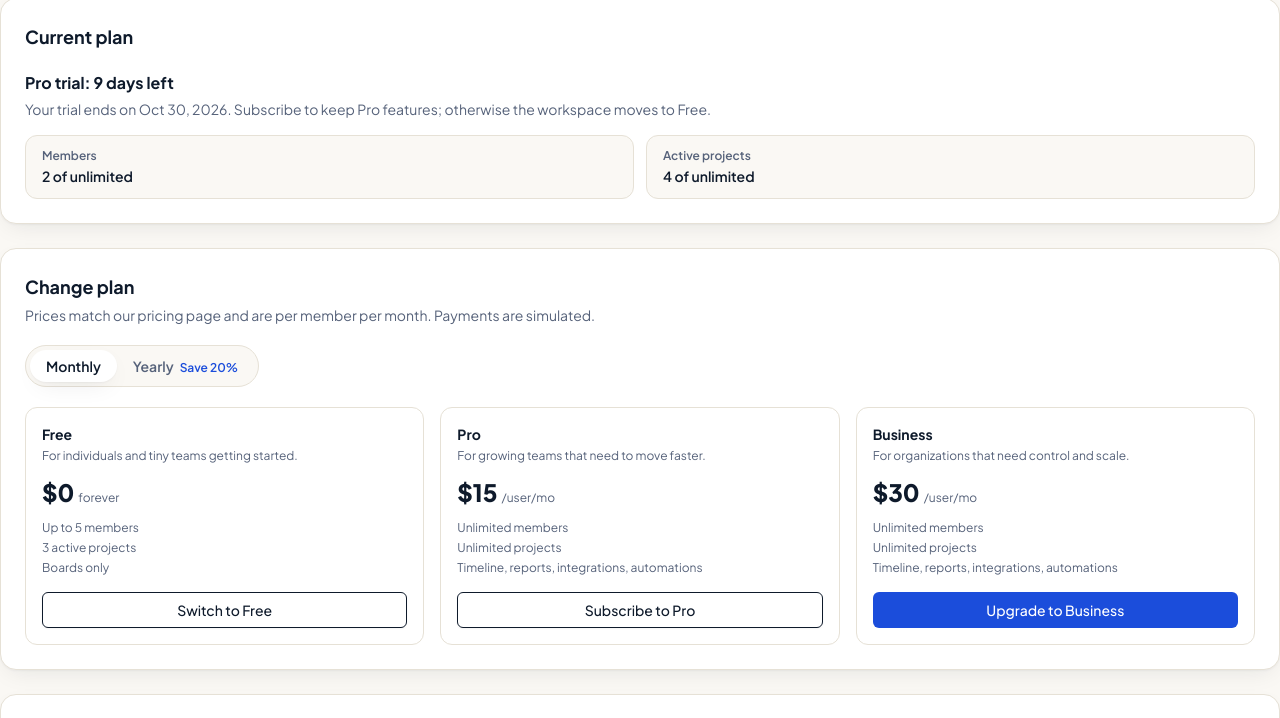
BillingPanel › upgrades through the mock checkout with the test card pre-filled
The image size is (1280, 718).
Click the radio button labelled "Yearly" at (186,366), box [117, 350, 254, 382]
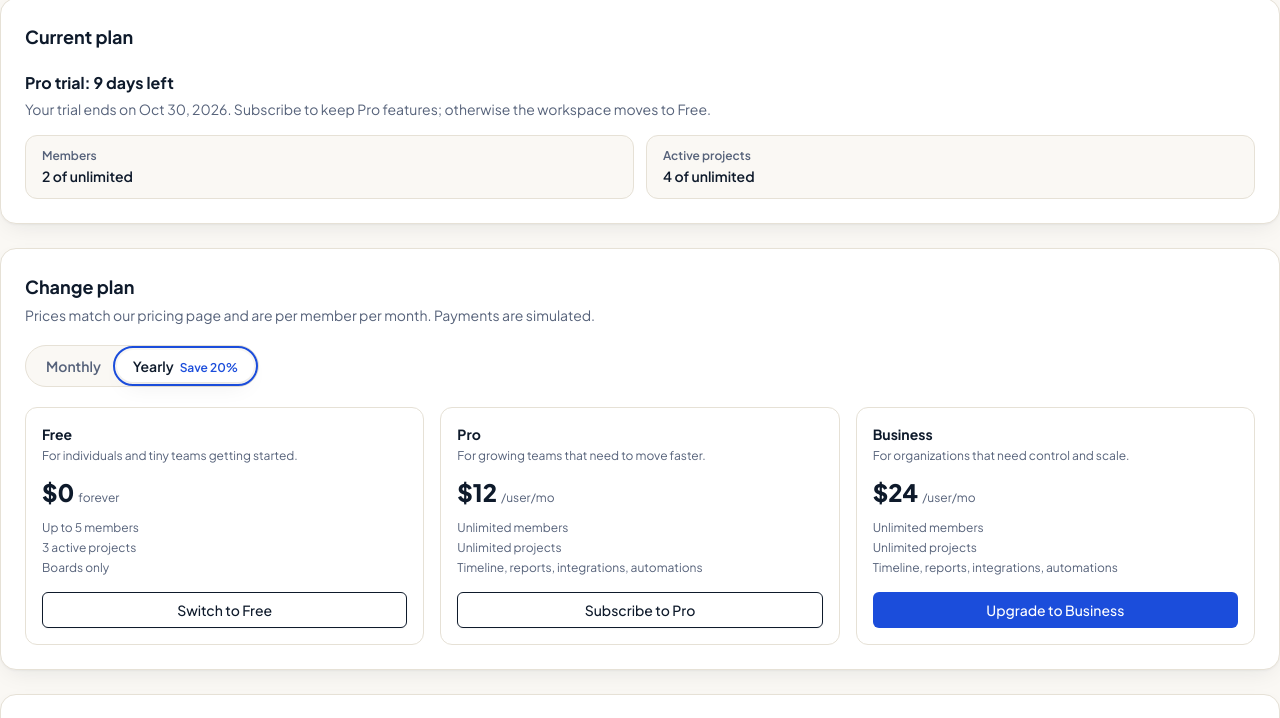
Click the button "Upgrade to Business" at (1055,610), box [873, 592, 1238, 628]
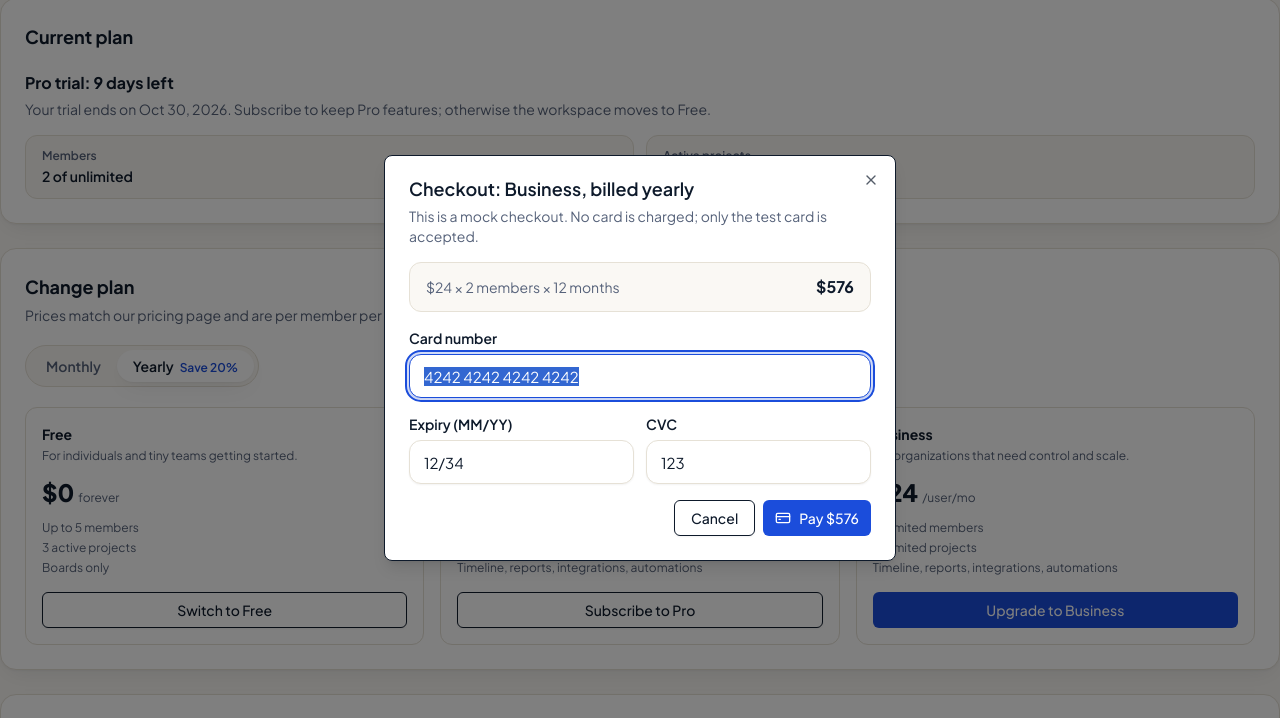
Now the field labelled "Card number" holds "4242 4242 4242 4242", box [409, 354, 871, 398]
Now the text "$576" is shown, box [816, 275, 854, 299]
Click the button "Pay $576" at (817,518), box [763, 500, 871, 536]
(page scrolled)
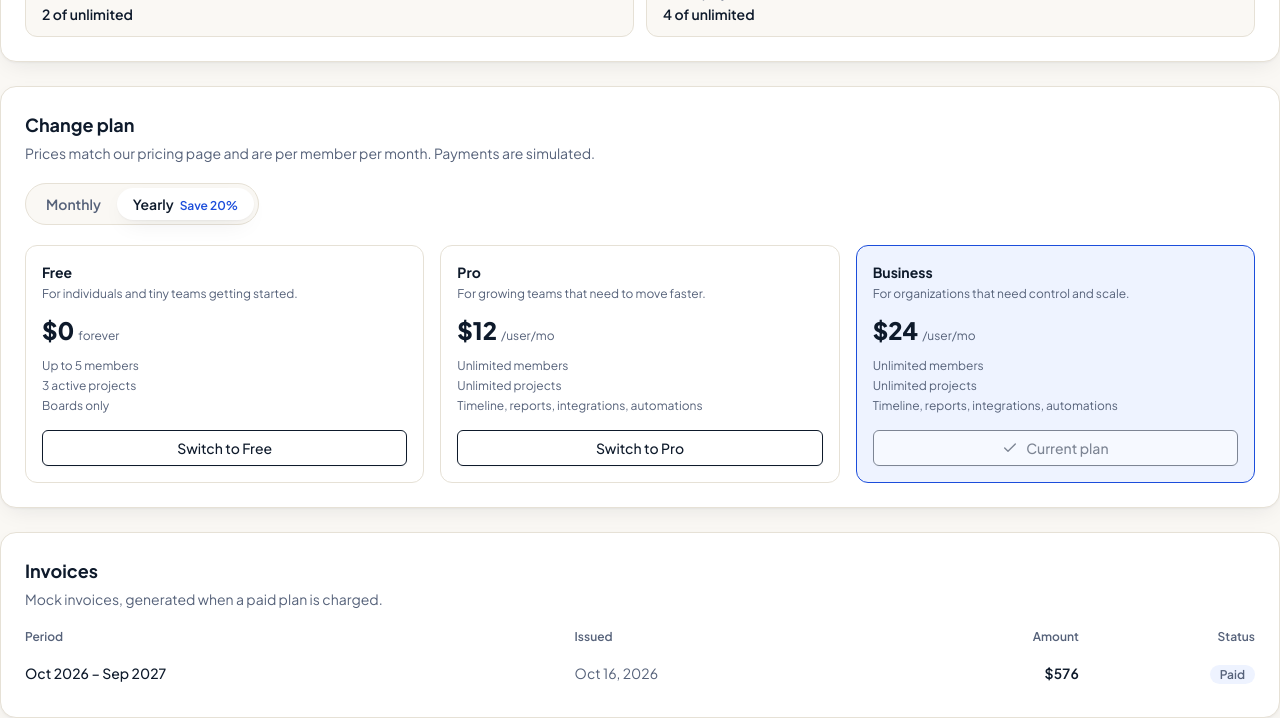
Now the text "Oct 2026 – Sep 2027" is shown, box [25, 653, 575, 693]
